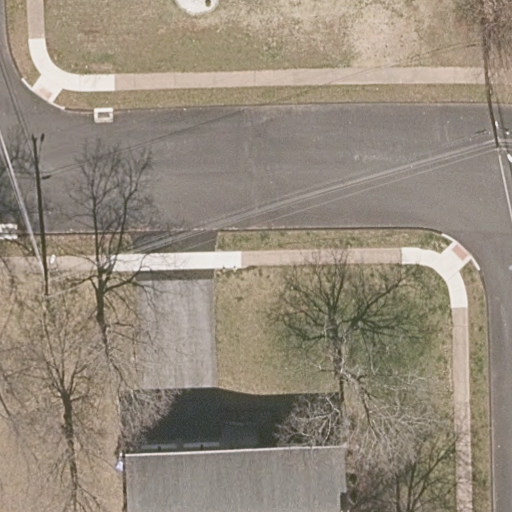DT: (1, 221, 63, 301), (482, 118, 512, 164)
